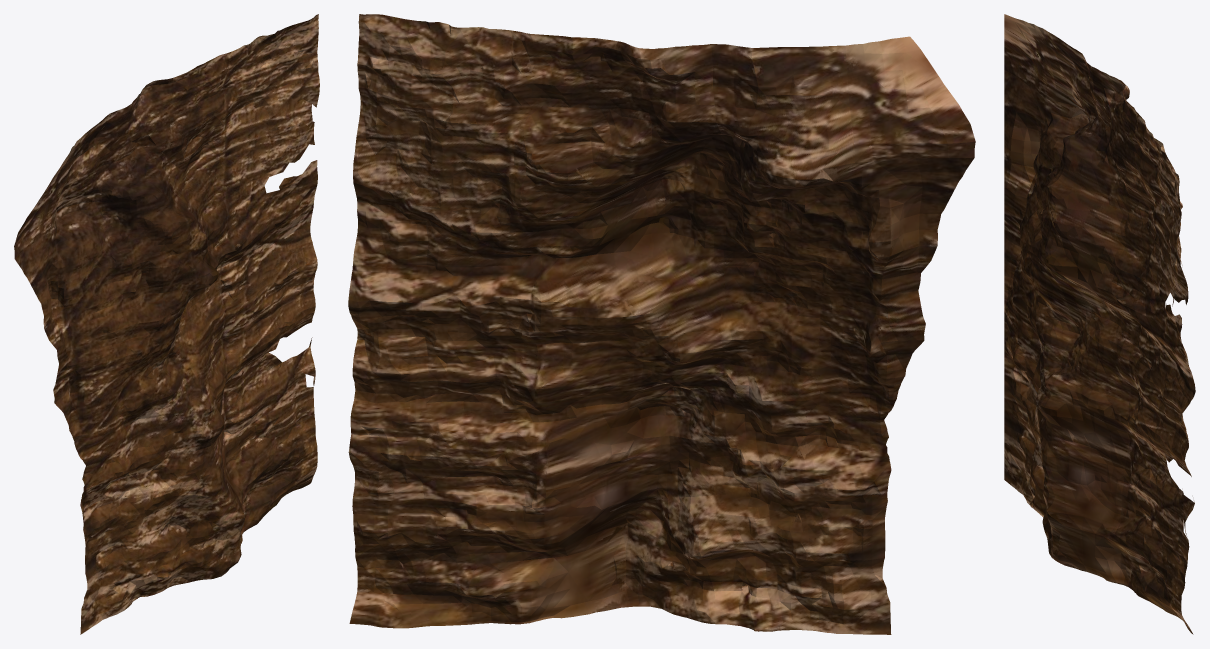
The picture shows the model from 3 angles, left to right: view 1: azimuth 30°, elevation 25°; view 2: azimuth 150°, elevation 25°; view 3: azimuth 270°, elevation 25°; orthographic projection. The views are drawn at different scales.
Size of the model in its own units: 0.9096 by 1.04 by 0.3944.
Materials: 2 (2 with a texture image).
